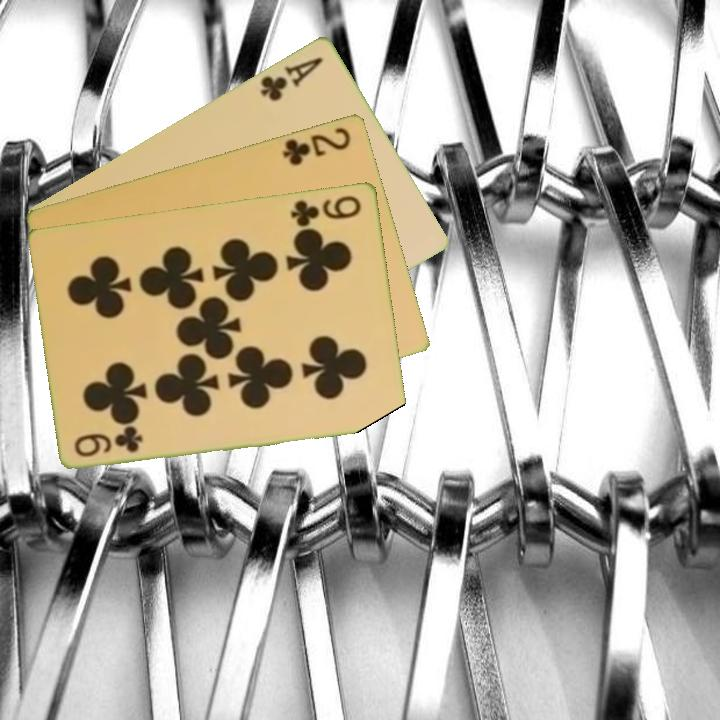2c: (280, 123, 354, 168)
9c: (287, 191, 364, 229), (71, 425, 147, 460)
Ac: (257, 52, 327, 104)
